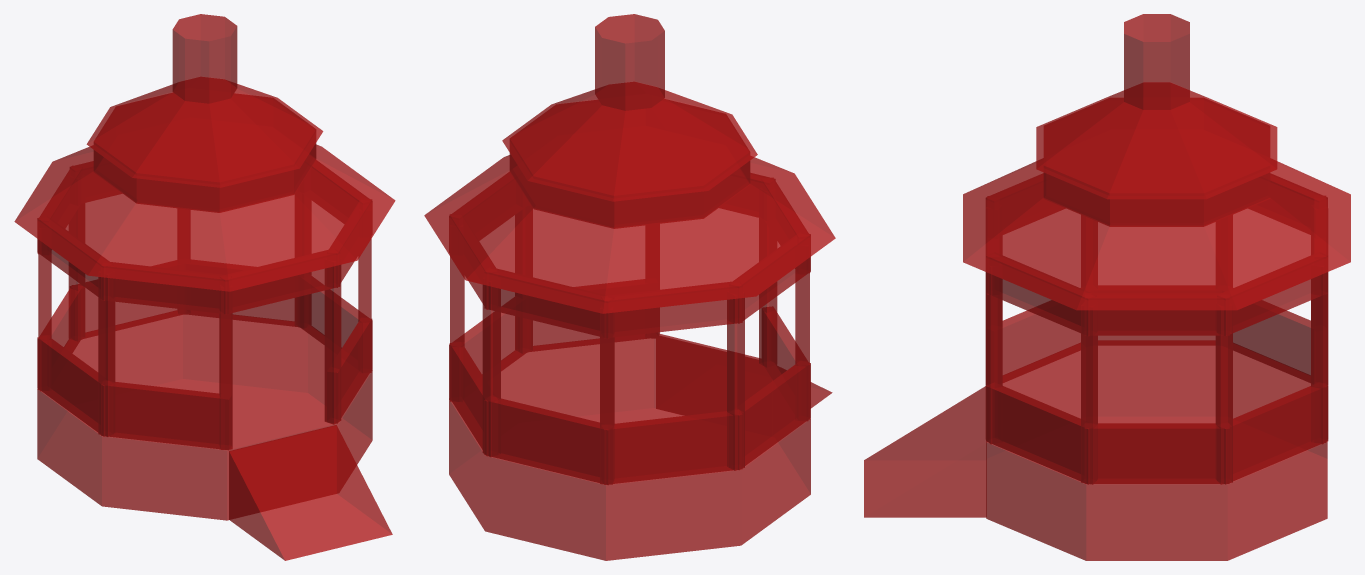
File: SM_Env_Gazebo_01_Collision.fbx
3 views of the same model, side by side, from view 1: azimuth 30°, elevation 25°; view 2: azimuth 150°, elevation 25°; view 3: azimuth 270°, elevation 25° (orthographic). The views are drawn at different scales.
Visible parts, largest first — view 1: SM_Env_Gazebo_01_Collision; view 2: SM_Env_Gazebo_01_Collision; view 3: SM_Env_Gazebo_01_Collision.
Boxes of the visible parts, x1=… form: SM_Env_Gazebo_01_Collision: x1=14, y1=14, x2=395, y2=560; SM_Env_Gazebo_01_Collision: x1=424, y1=14, x2=835, y2=560; SM_Env_Gazebo_01_Collision: x1=864, y1=14, x2=1350, y2=560.
Bounding box in the file's own units: 473 × 620 × 594.
